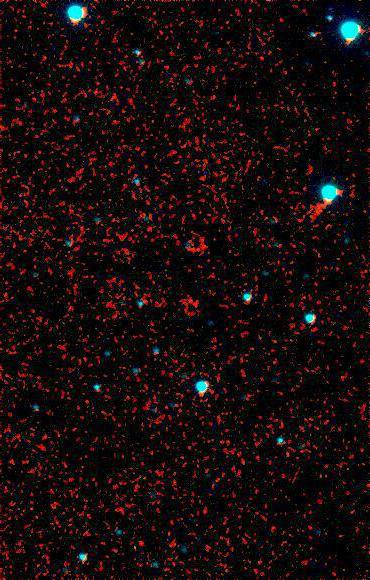star: (122, 535, 152, 565)
